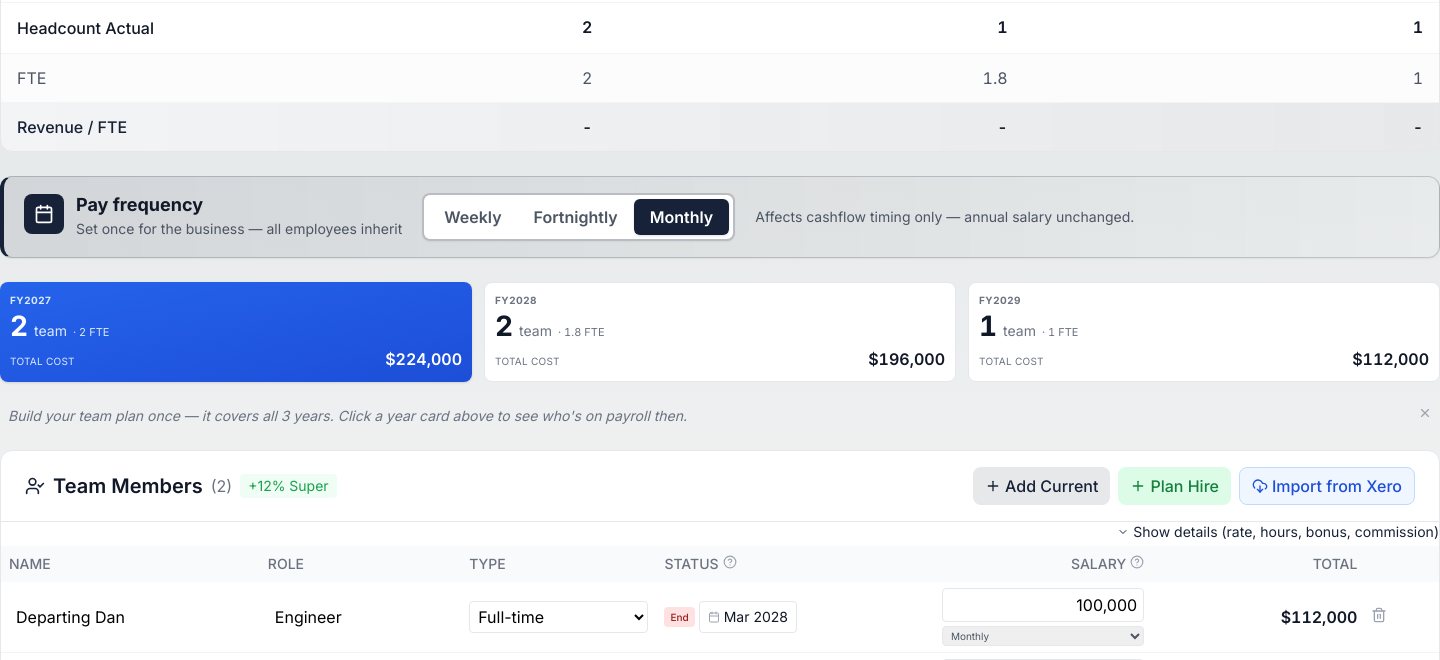
Phase 55-01 — UX-S4-04: Step 4 year-card filter › selecting the FY of a departure shows a red Leaves badge on the departing member
This screenshot has width=1440, height=660.
(page scrolled)
Expected: the 2nd field showing "Departing Dan" is shown, [9,600,252,634]
Step 1. Click the button with test id "year-card-2" → x=536, y=330, box [484,282,956,382]
(page scrolled)
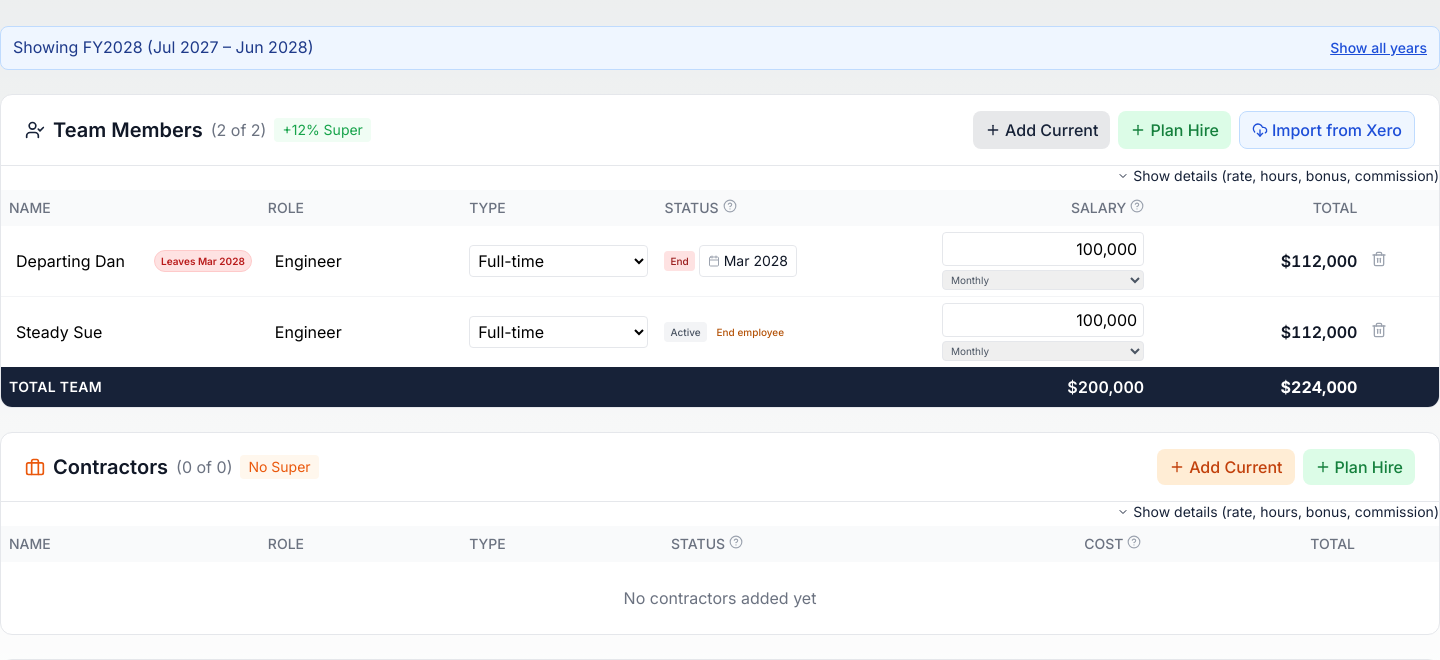
Expected: the field showing "Departing Dan" next to "Leaves Mar 2028" is shown, [9,244,148,278]
Now the text "Leaves Mar 2028" is shown, box [154,250,252,272]
